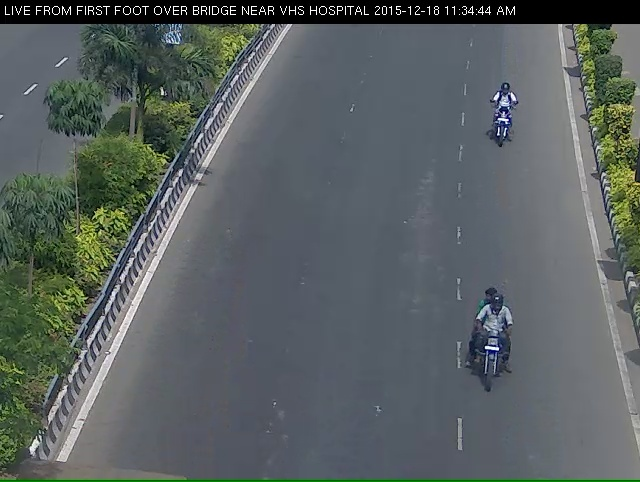Person: (469, 292, 518, 427), (476, 77, 524, 166)
